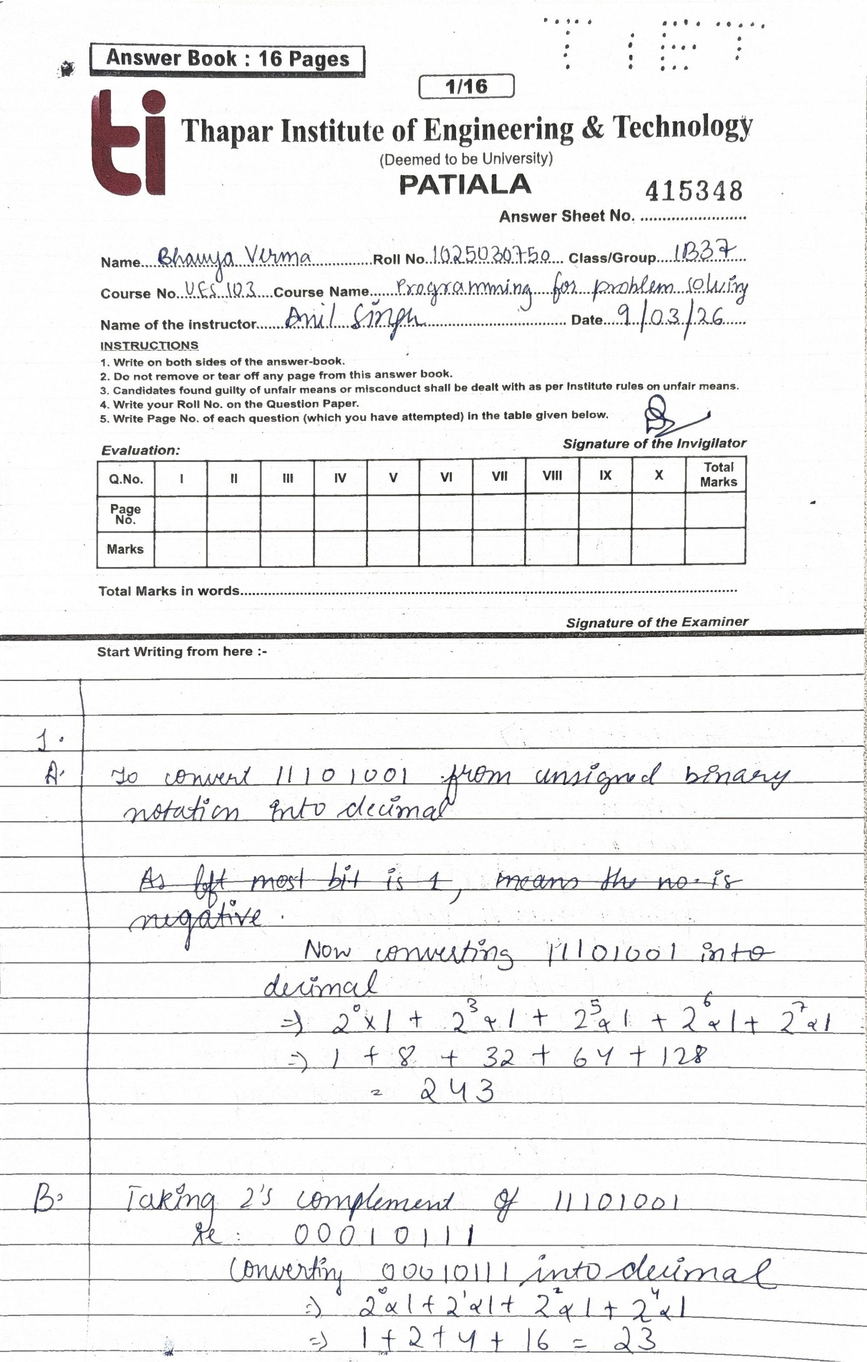cuttings: (137, 860, 458, 909), (127, 898, 264, 952), (493, 864, 745, 892)
